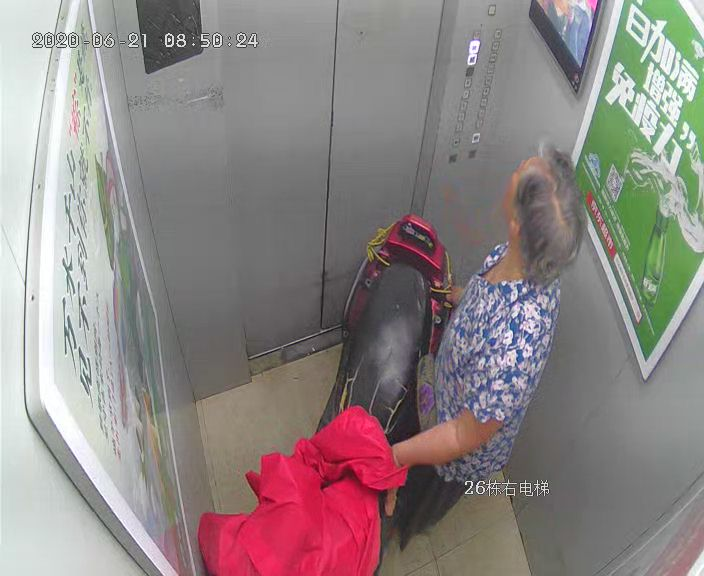Electric-bicycle: (221, 215, 449, 570)
